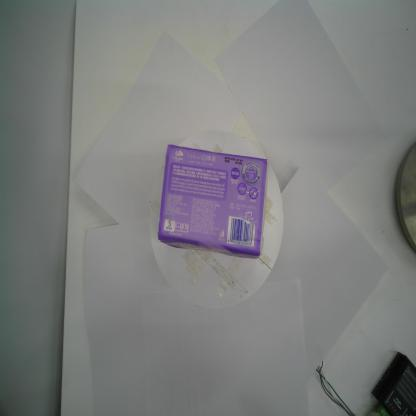Tissue: (156, 141, 269, 262)
